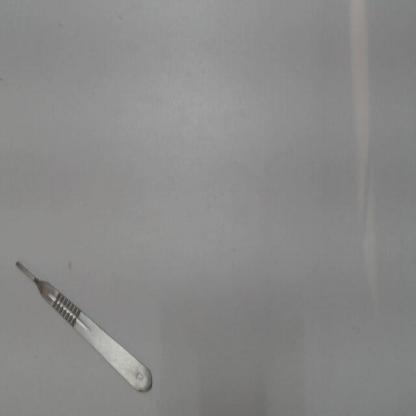No.3 BP Handle: (8, 244, 154, 400)
